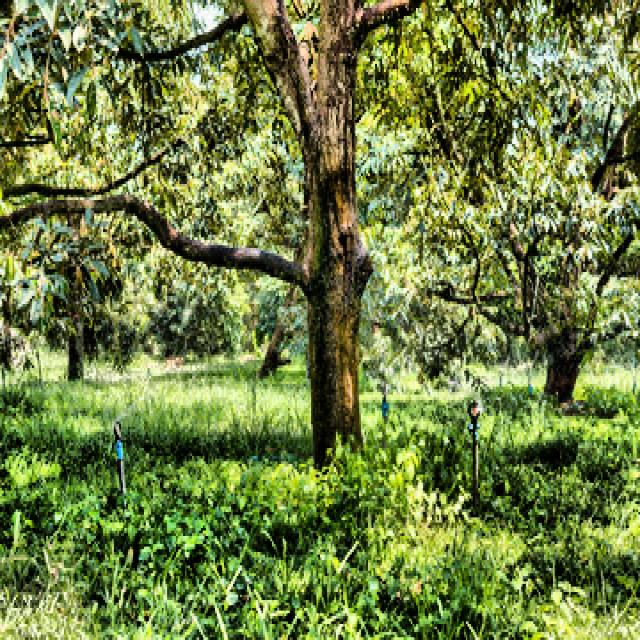arvore: (266, 0, 387, 517), (533, 222, 588, 433)
